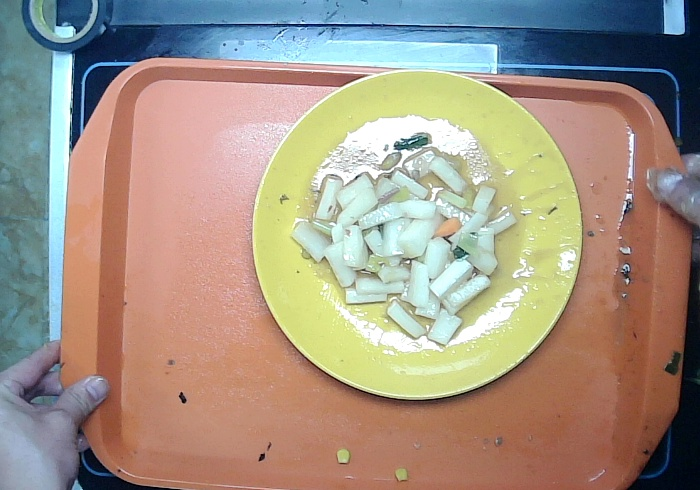HZYJPL-Huang_Se_Yuan_Pan: (249, 67, 584, 402)
